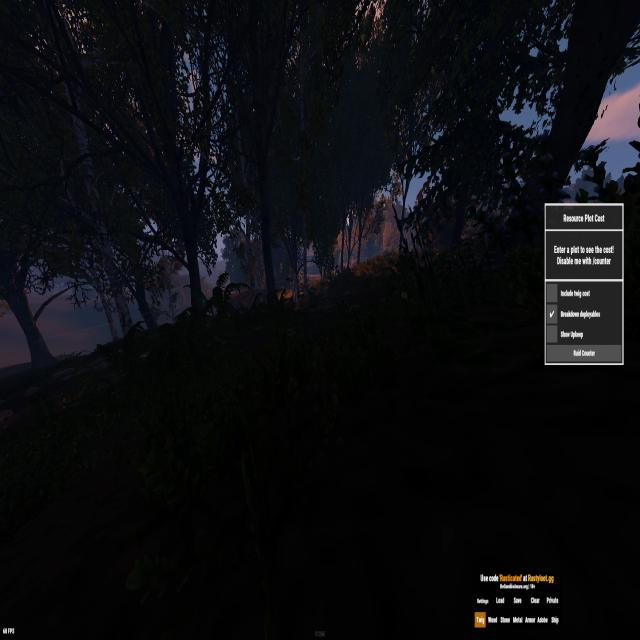Player: (288, 267, 300, 306)
